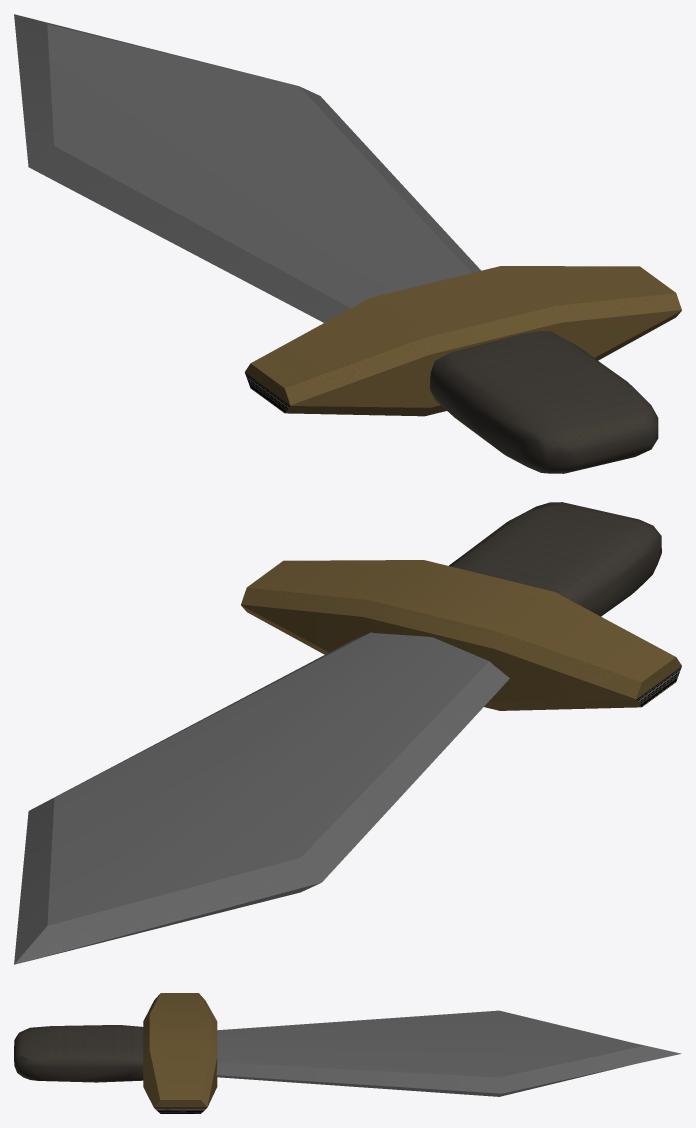
The model's file is sword.fbx.
The picture shows the model from 3 angles, top to bottom: view 1: azimuth 30°, elevation 25°; view 2: azimuth 150°, elevation 25°; view 3: azimuth 270°, elevation 25°; orthographic projection. The views are drawn at different scales.
Visible parts, largest first — view 1: sword_1; view 2: sword_1; view 3: sword_1.
Boxes of the visible parts, left/top/right/bottom form: sword_1: left=14, top=14, right=681, bottom=473; sword_1: left=14, top=502, right=681, bottom=964; sword_1: left=14, top=993, right=681, bottom=1113.
Size of the model in its own units: 268 by 51.42 by 707.
1 material, 1 textured.
